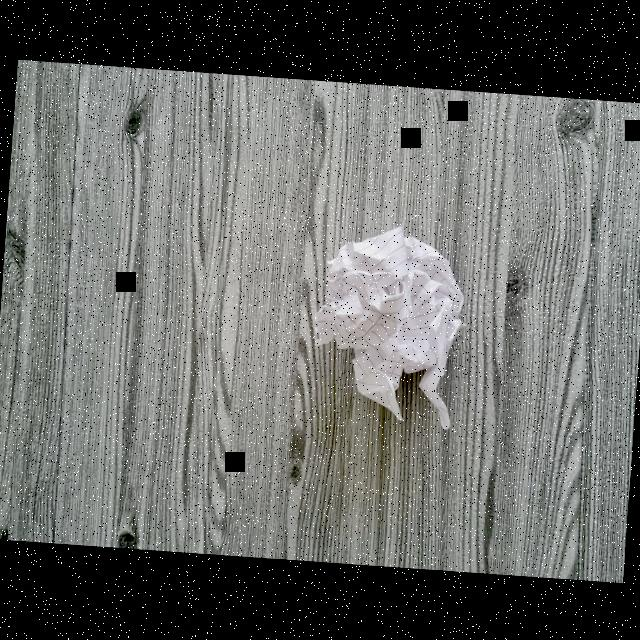scrap_paper: (309, 230, 463, 415)
